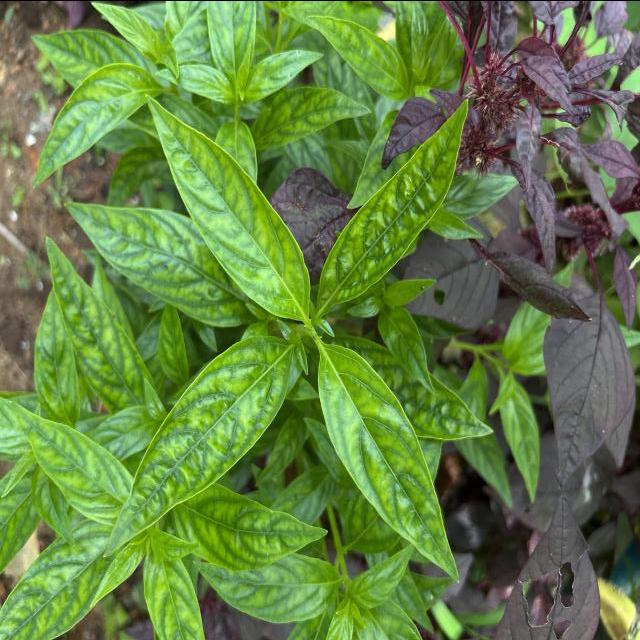Andrographis paniculata: (98, 324, 302, 561), (138, 88, 318, 322), (311, 342, 464, 586), (314, 88, 474, 320), (58, 187, 250, 329), (38, 228, 158, 410), (22, 62, 162, 194), (3, 384, 132, 527), (0, 509, 130, 640), (184, 488, 328, 572)
